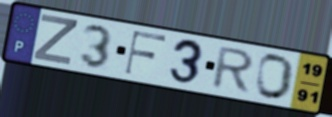3: (168, 36, 205, 87), (78, 23, 115, 70)
F: (122, 29, 169, 77)
O: (254, 53, 297, 102)
R: (208, 45, 257, 95)
Z: (31, 13, 80, 67)
